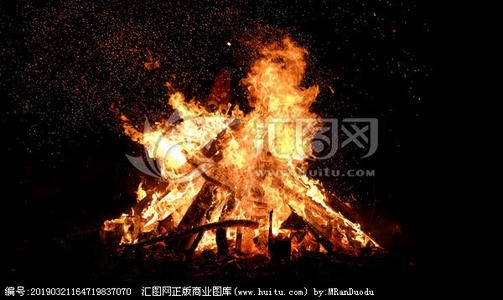fire: (105, 22, 375, 263)
